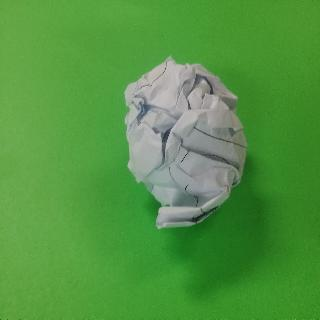8/可回收垃圾/纸: (123, 55, 248, 230)
